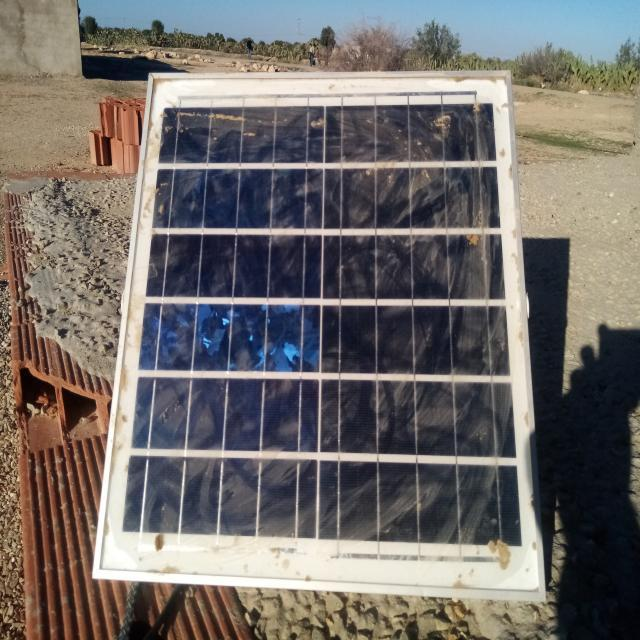faulty: (97, 76, 543, 597)
